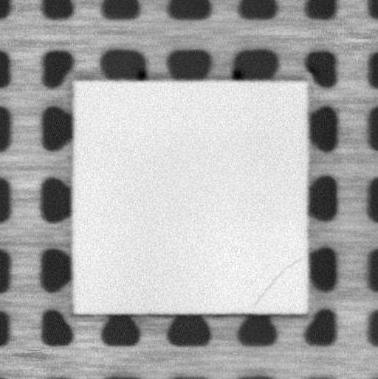DIE_CRACK: (256, 258, 301, 308)
